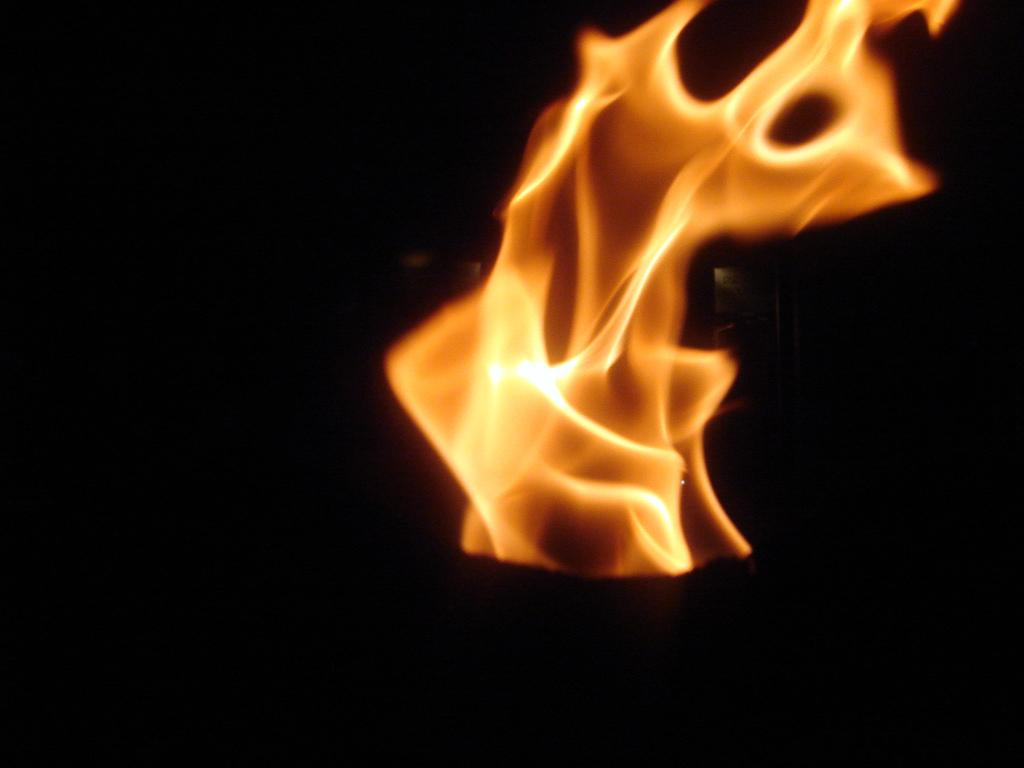fire: (496, 108, 696, 560)
